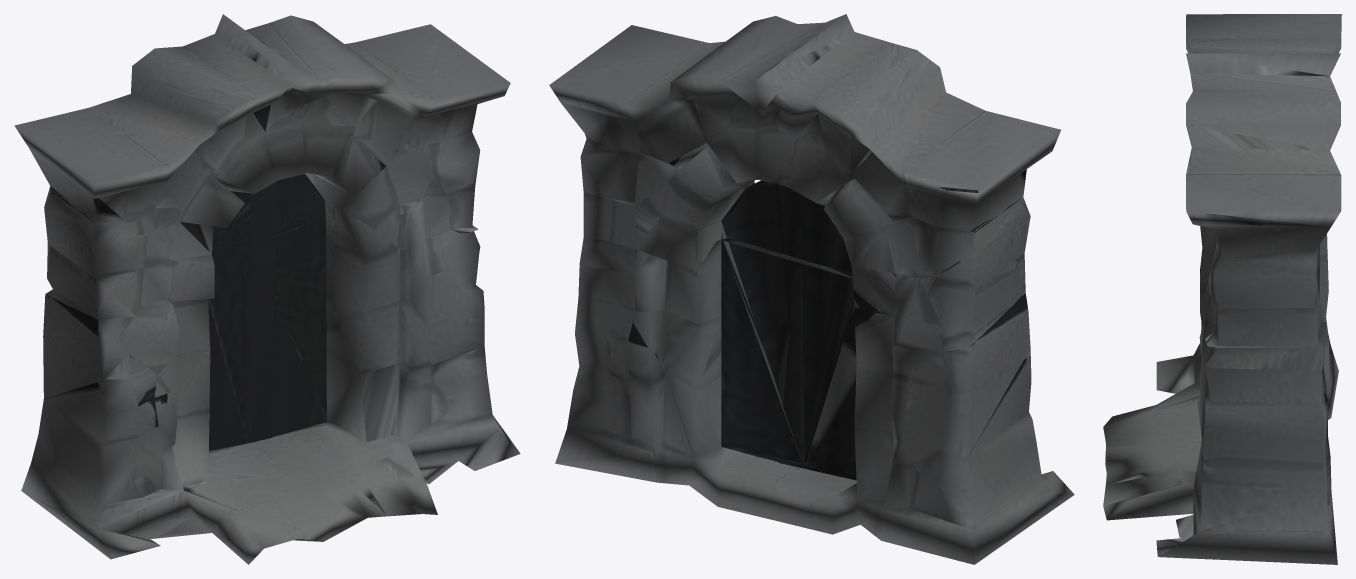
File: crypt.glb
3 renders of one model, left to right at view 1: azimuth 30°, elevation 25°; view 2: azimuth 150°, elevation 25°; view 3: azimuth 270°, elevation 25°, orthographic. The views are drawn at different scales.
Size of the model in its own units: 0.9443 by 0.9531 by 0.4837.
1 material, 1 textured.
